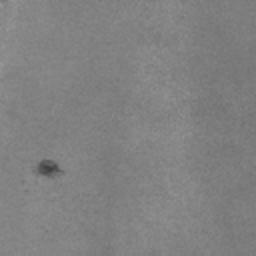Iron sheet ash: (37, 159, 68, 177)
